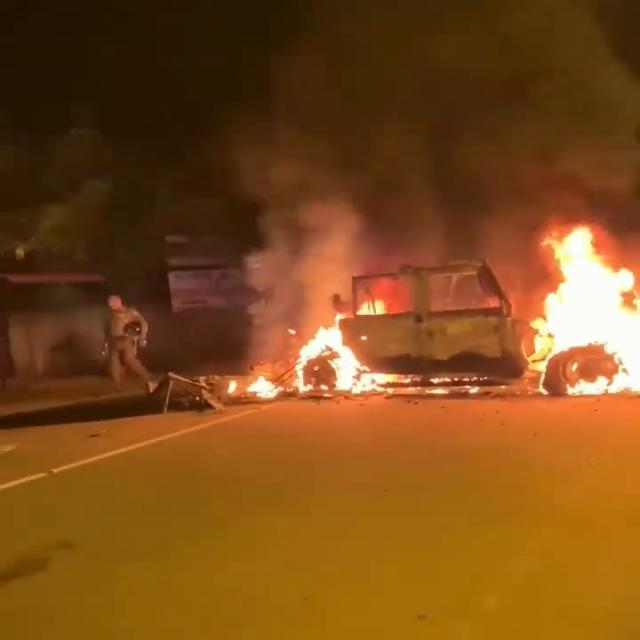Fire: (527, 225, 640, 397), (292, 314, 388, 398)
